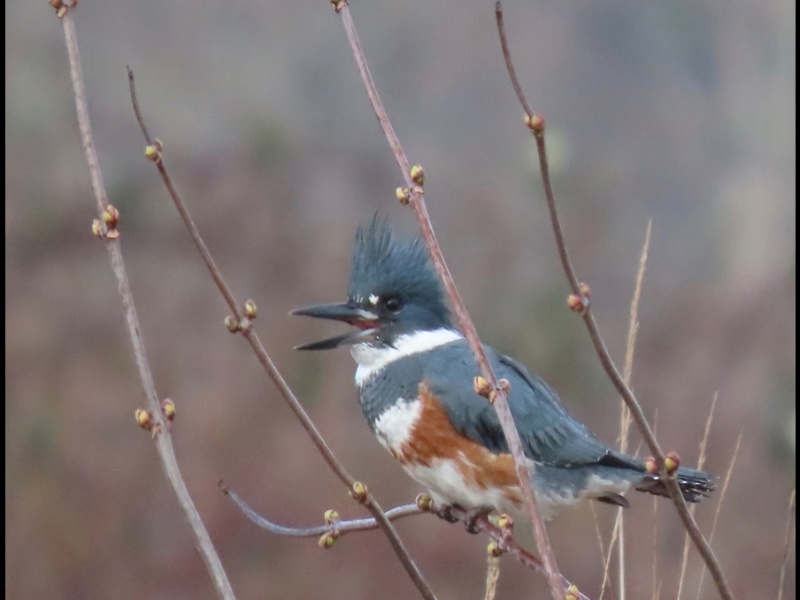kingfisher: (285, 208, 714, 539)
